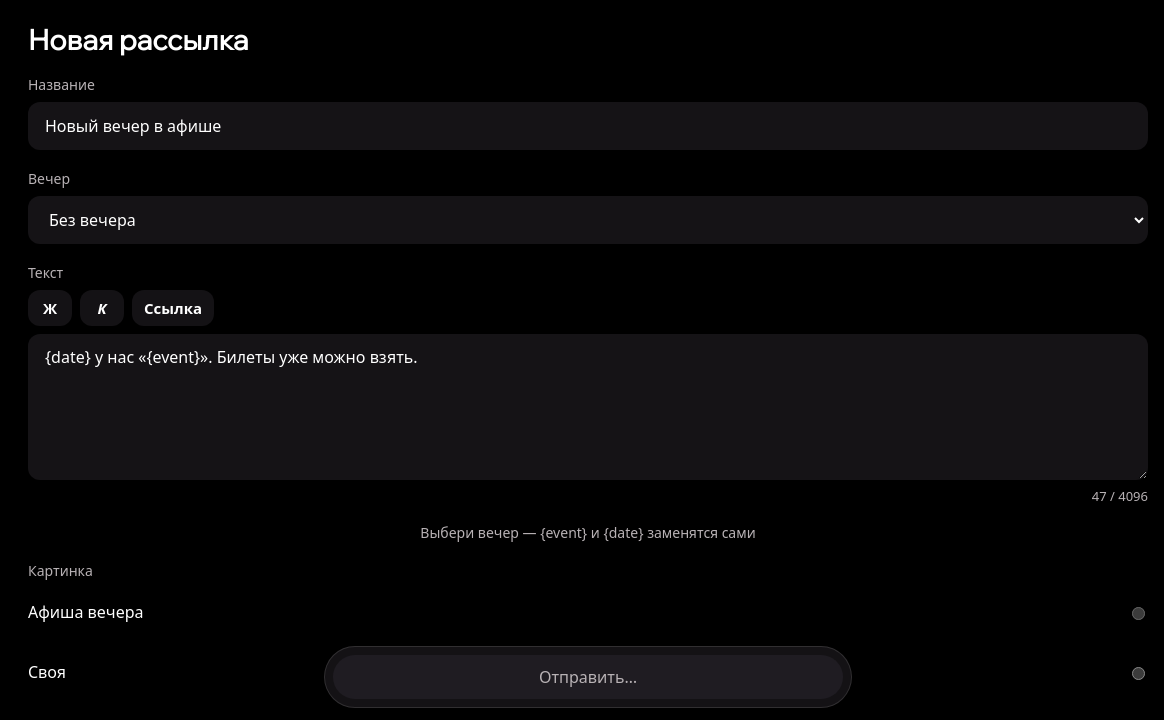
CampaignEditor › fills a template once an evening is picked
The width and height of the screenshot is (1164, 720).
Check: the text "Выбери вечер — {event} и {date} заменятся сами" is shown, box 420,523 -> 756,542
Check: the button "Отправить…" is disabled, box 333,655 -> 843,699
Step 1. Select "Кино на крыше: «Амели»" in the dropdown labelled "Вечер" → (588, 220), box 28,196 -> 1148,244
(page scrolled)
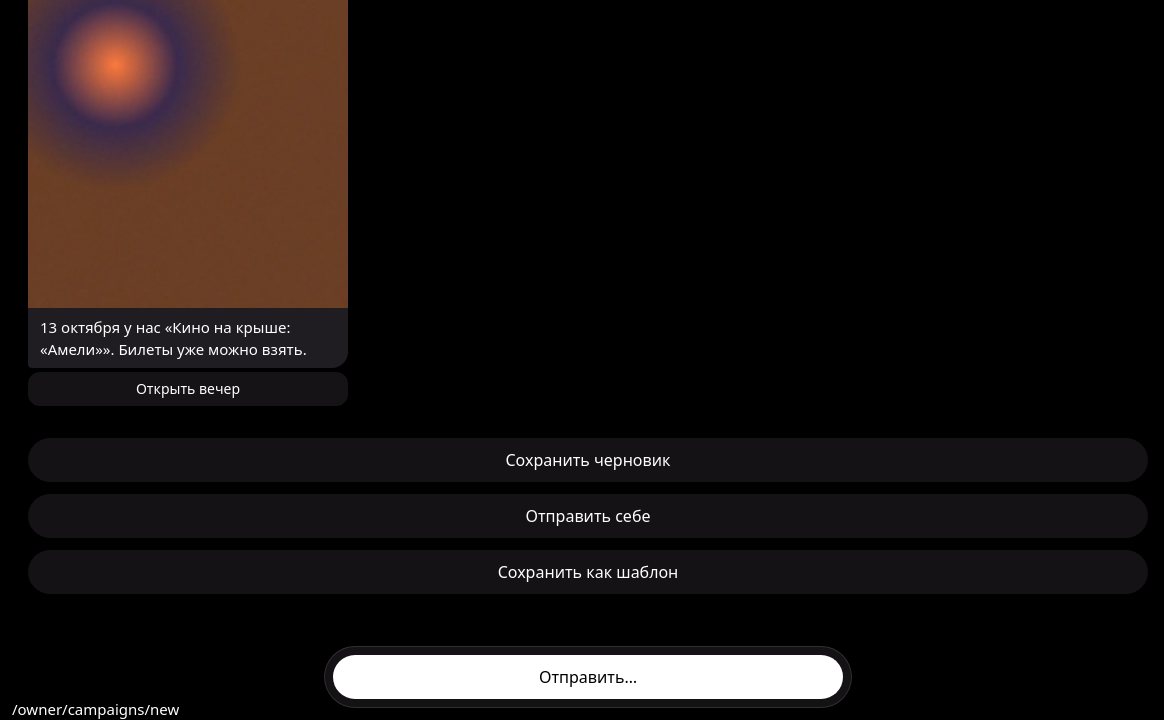
Check: the text "Открыть вечер" is shown, box 28,372 -> 348,406
Check: the text "Выбери вечер — {event} и {date} заменятся сами" is gone
